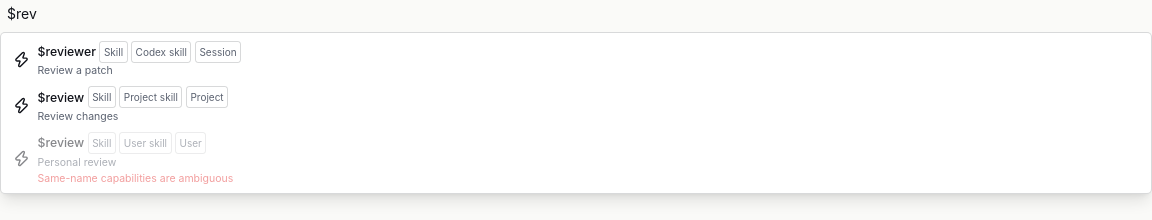
Test: ComposerContextInput › selects a ranked capability with opaque identity and collision provenance
Press a in the dropdown with test id "agent-input", box [7,5,37,22]
Expected: the 3rd option is disabled, [4,128,1148,190]
Expected: the 3rd option shows "Same-name capabilities are ambiguous", [4,128,1148,190]
Click the option "$review Skill Project skill Project Review changes": (65, 97) [4,82,1148,128]
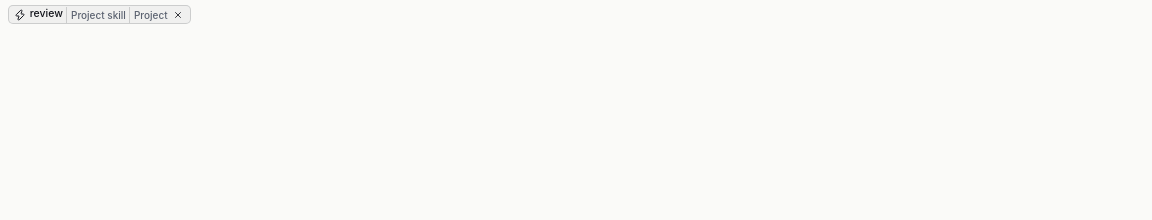
Expected: the element with test id "composer-context-chip" shows "Project skill", [71,9,126,21]
